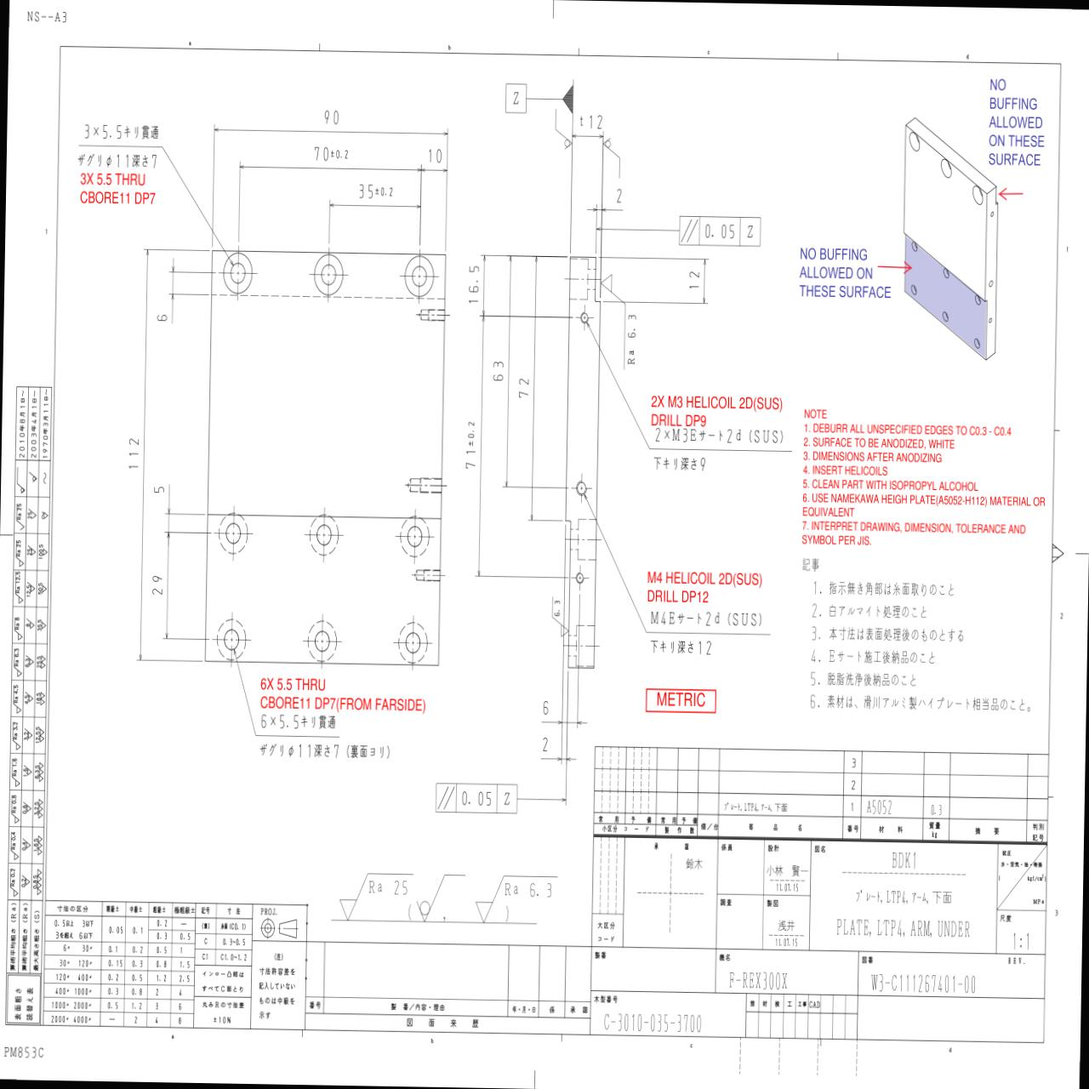basic_dimension: (314, 146, 349, 162), (465, 421, 476, 469), (359, 184, 393, 199), (468, 265, 479, 304), (128, 439, 139, 469), (324, 110, 339, 125), (152, 576, 163, 595), (429, 148, 442, 164), (493, 361, 503, 381), (519, 378, 529, 398), (690, 271, 700, 289), (154, 486, 165, 493), (543, 700, 548, 715), (543, 737, 548, 752), (617, 188, 622, 203), (157, 314, 167, 321)
datum_symbol: (505, 83, 573, 115)
dimension_diameter_symbol: (287, 743, 312, 760), (106, 153, 130, 168)
dimension_metric_symbol: (671, 426, 689, 446), (650, 610, 667, 627)
dimension_thickness_symbol: (579, 115, 602, 129)
gdt_frame_symbol: (677, 212, 764, 252), (433, 779, 521, 816)
gdt_parallelism_symbol: (680, 217, 699, 244), (437, 785, 456, 811)
surface_finish_symbol: (475, 876, 558, 924), (339, 873, 414, 921), (600, 274, 626, 371), (416, 875, 466, 923), (555, 109, 573, 150), (603, 137, 620, 179), (552, 596, 569, 637)
